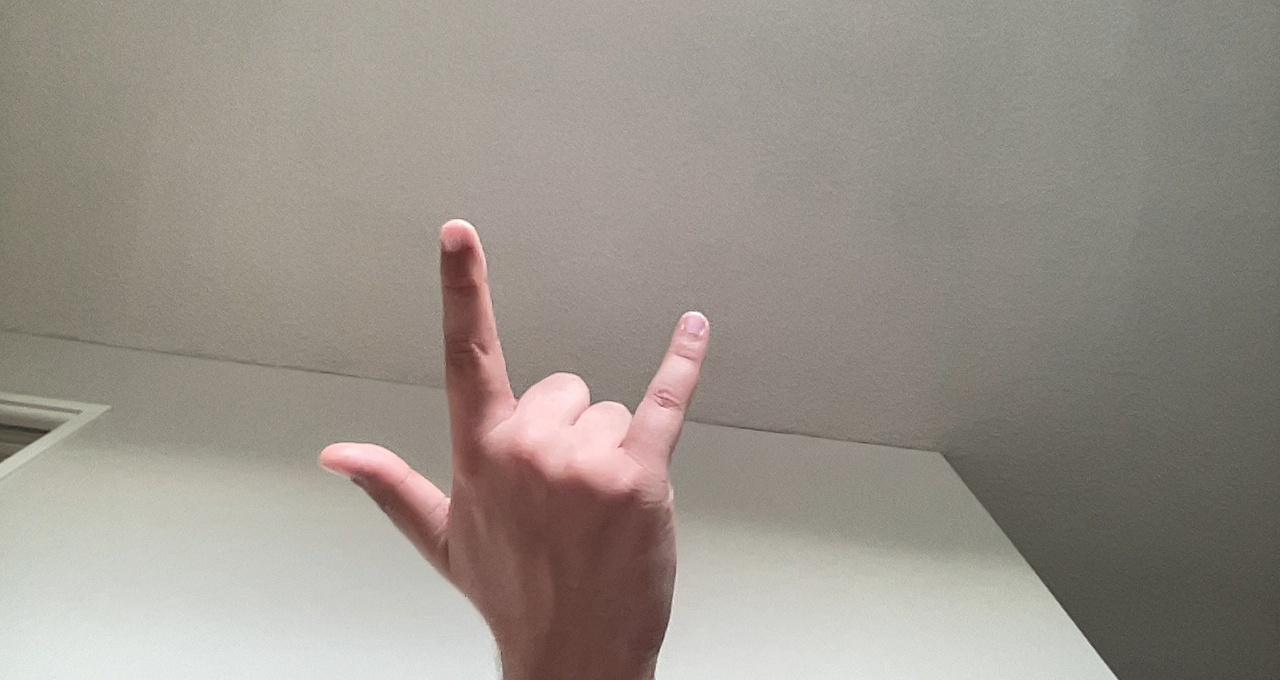rockon sign: (320, 203, 723, 664)
